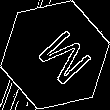M_SW: (22, 21, 88, 89)
